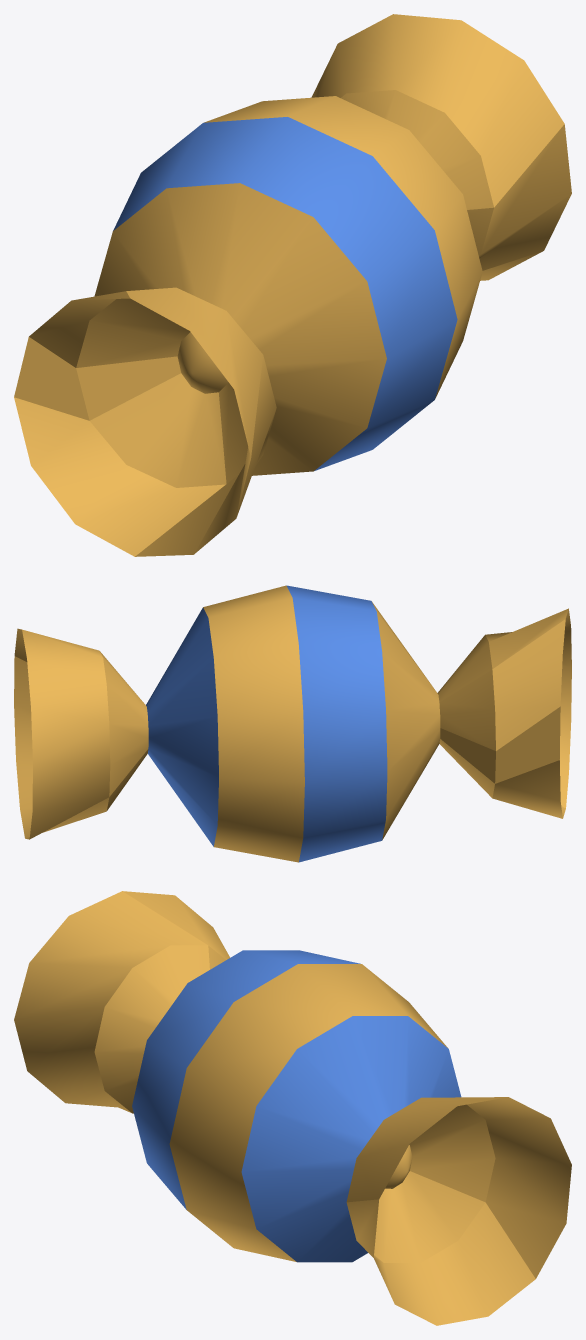
Rendered from Sweet.fbx.
The picture shows the model from 3 angles, top to bottom: view 1: azimuth 30°, elevation 25°; view 2: azimuth 150°, elevation 25°; view 3: azimuth 270°, elevation 25°; orthographic projection. The views are drawn at different scales.
Parts seen in each view (by area): view 1: Sweets; view 2: Sweets; view 3: Sweets.
Part boxes in pixels (x1=…): Sweets: x1=14, y1=14, x2=571, y2=556; Sweets: x1=14, y1=585, x2=571, y2=862; Sweets: x1=14, y1=891, x2=571, y2=1325.
Size of the model in its own units: 41.94 by 21.05 by 37.44.
